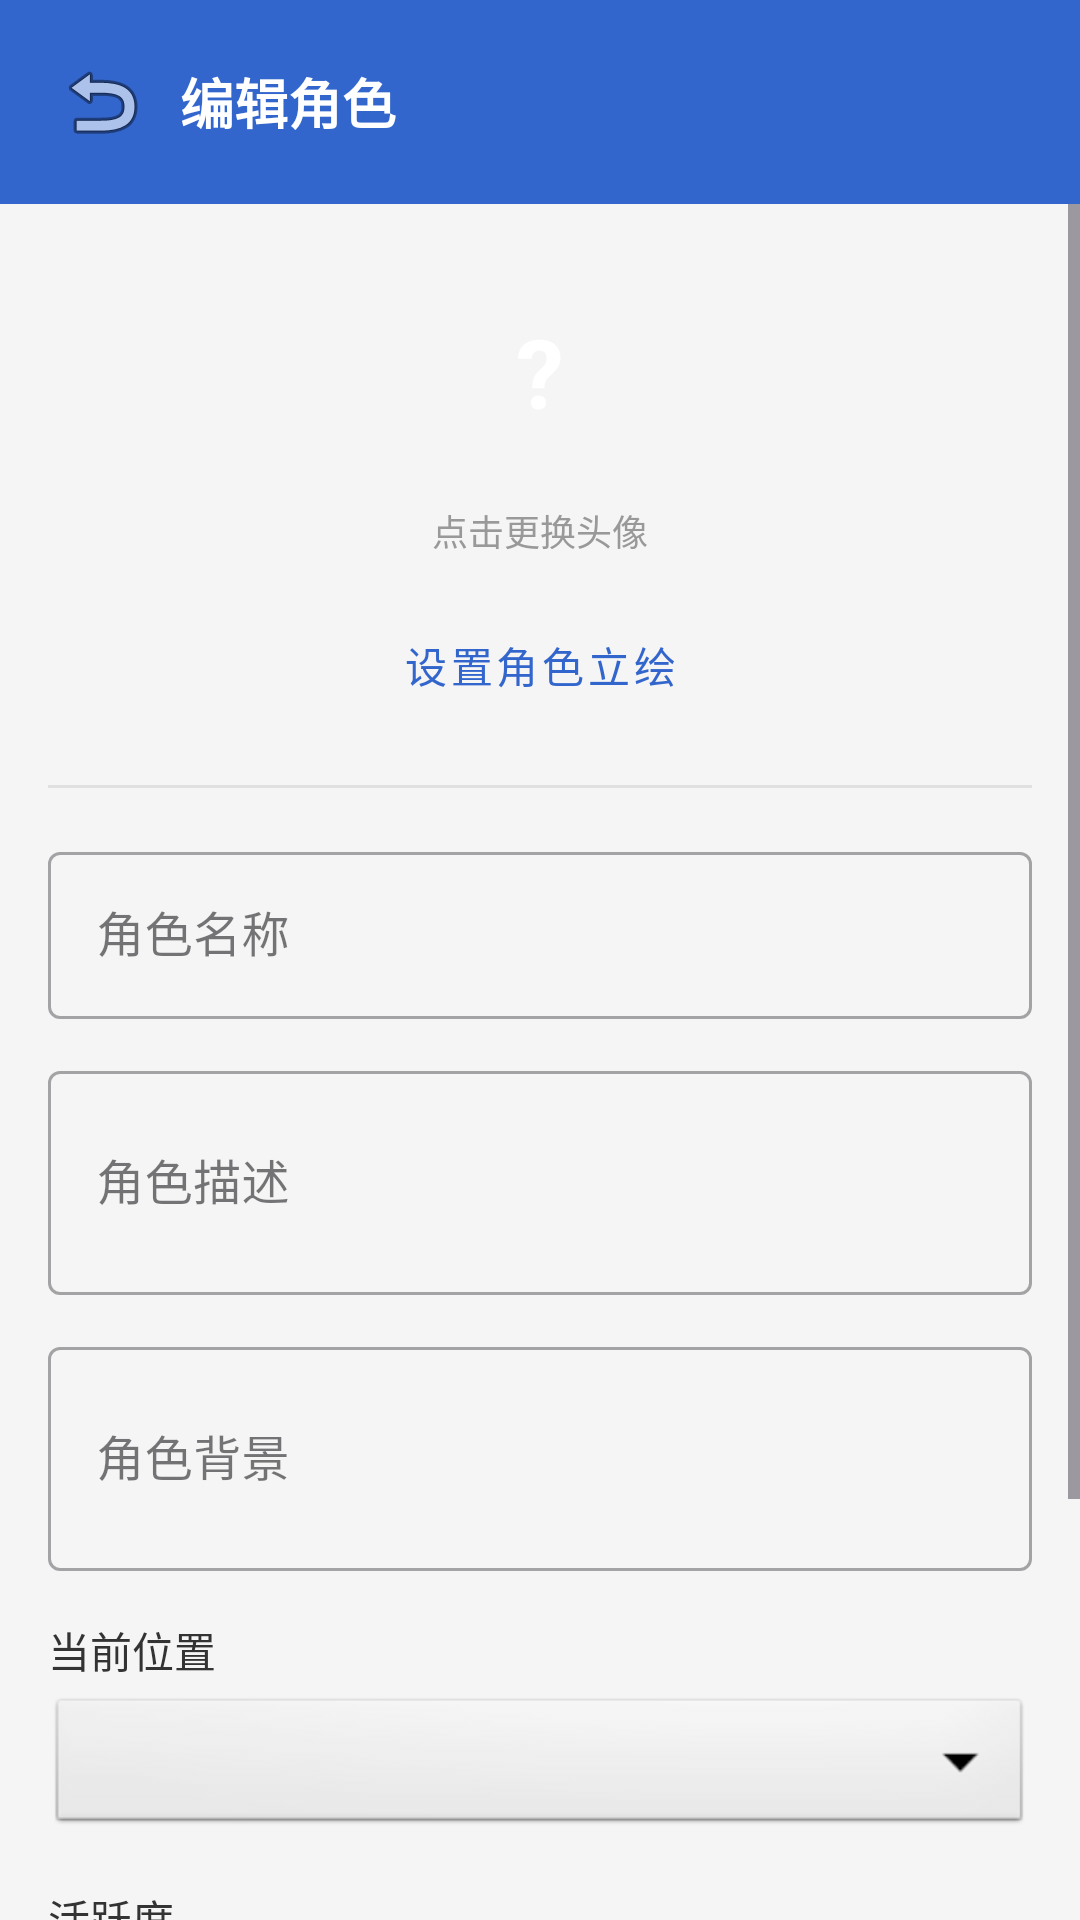

Locate icon controls on the screen. Image size 1080w x 1920h, boxes as BBox(x1, y1, x2, y2).
返回: BBox(69, 71, 138, 134)
